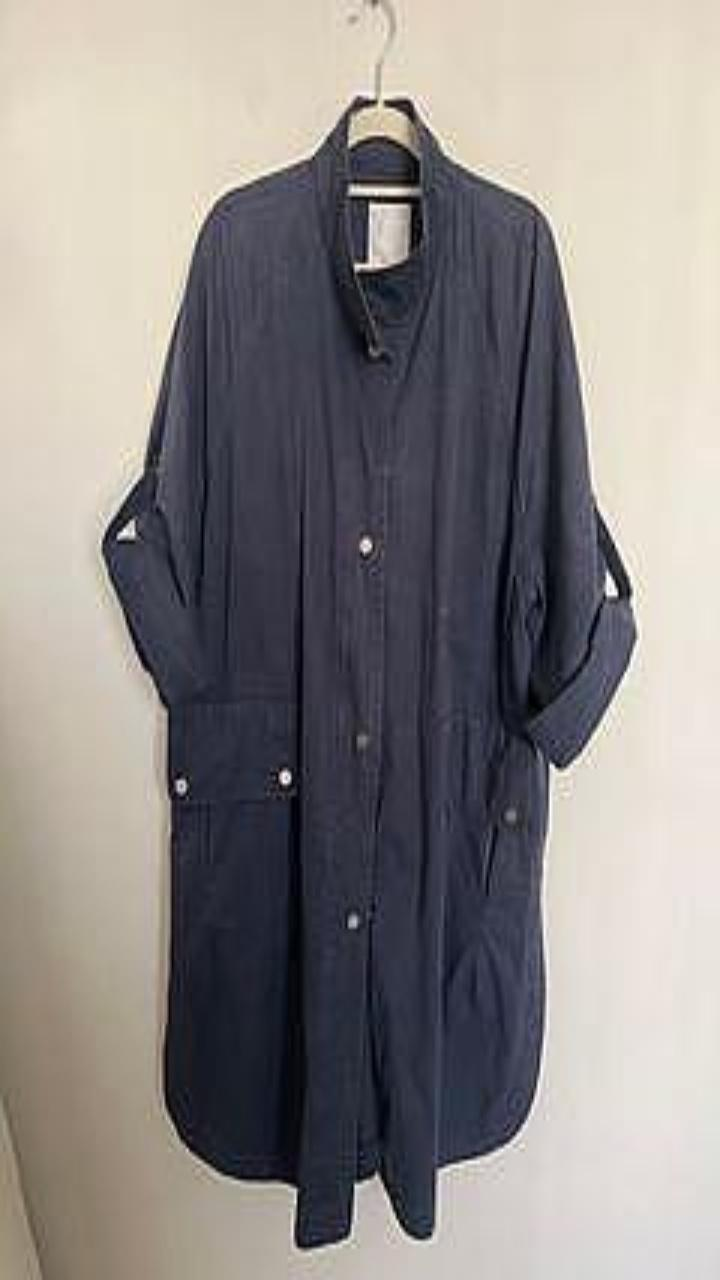Coat: (102, 97, 636, 1247)
